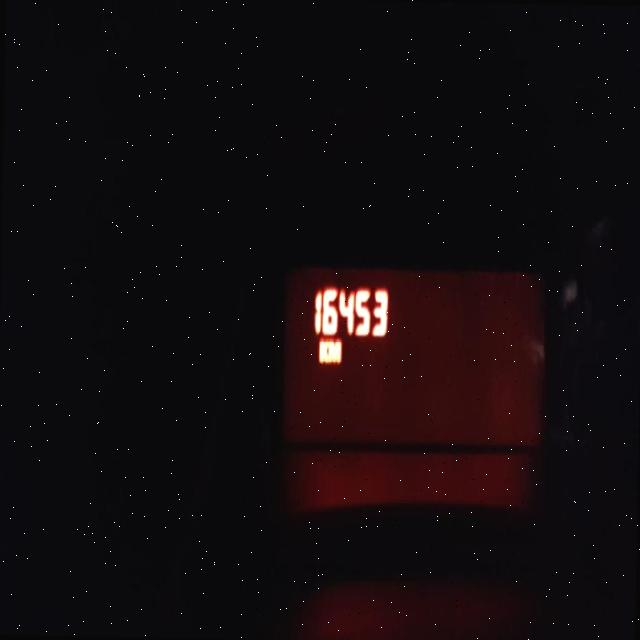odometer: (278, 258, 552, 456)
